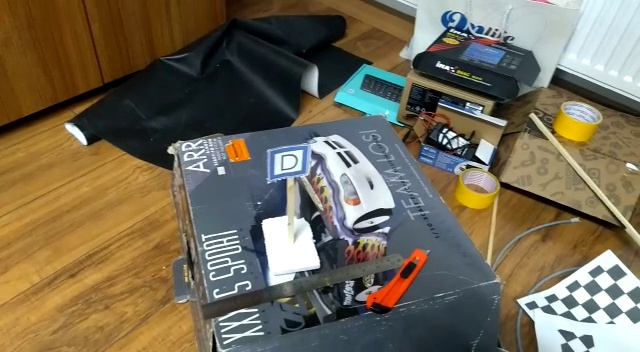durak: (264, 140, 318, 183)
